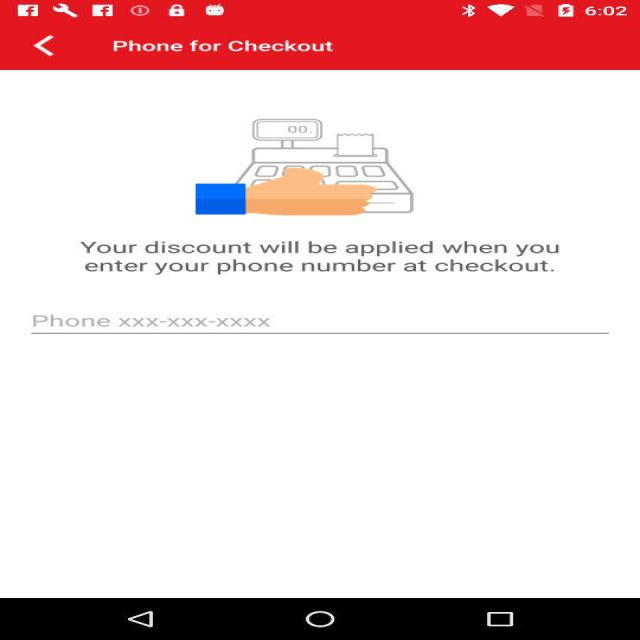privacy zuckering: (195, 166, 377, 216)
